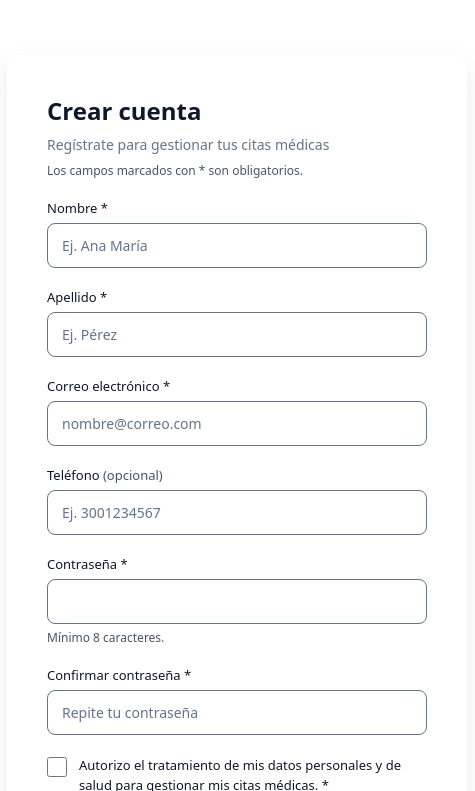
Test case: HU-01 registro › con la autorización crea la cuenta y la envía al servidor
The image size is (475, 791).
Type "Ana" into the field with id "registro-nombre".
click(237, 246); type("Ana")  # box [47,223,427,268]
Type "Pérez" into the field with id "registro-apellido".
click(237, 334); type("Pérez")  # box [47,312,427,357]
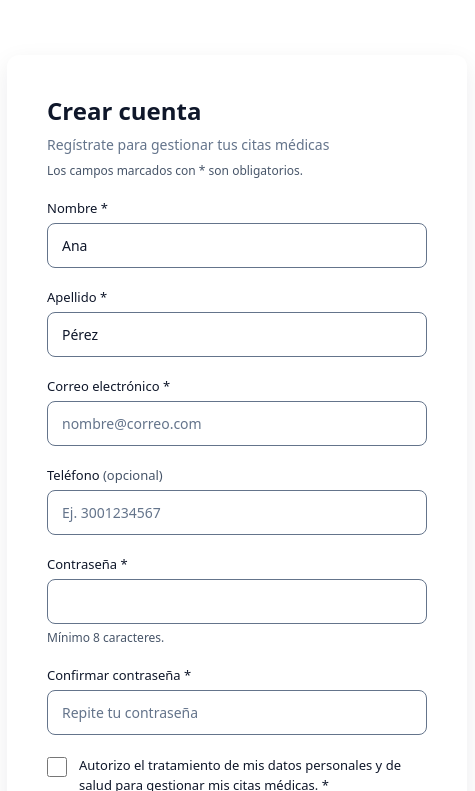
Type "ana@correo.com" into the field with id "registro-correo".
click(237, 424); type("ana@correo.com")  # box [47,401,427,446]
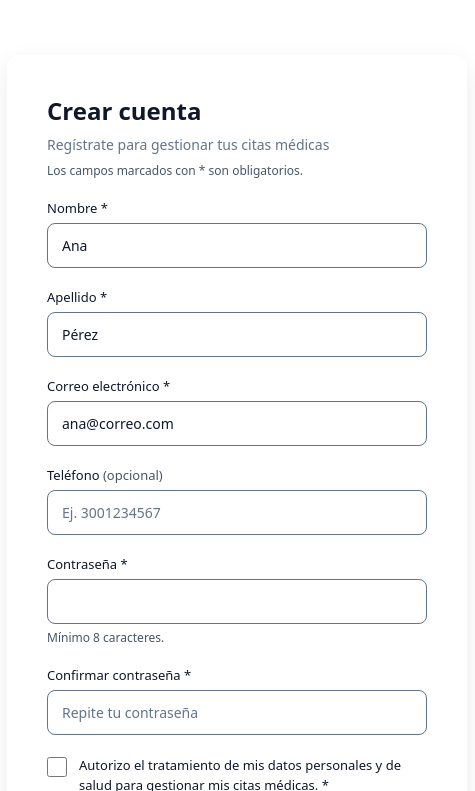
Type "claveSegura1" into the password field with id "registro-contrasena".
click(237, 602); type("claveSegura1")  # box [47,579,427,624]
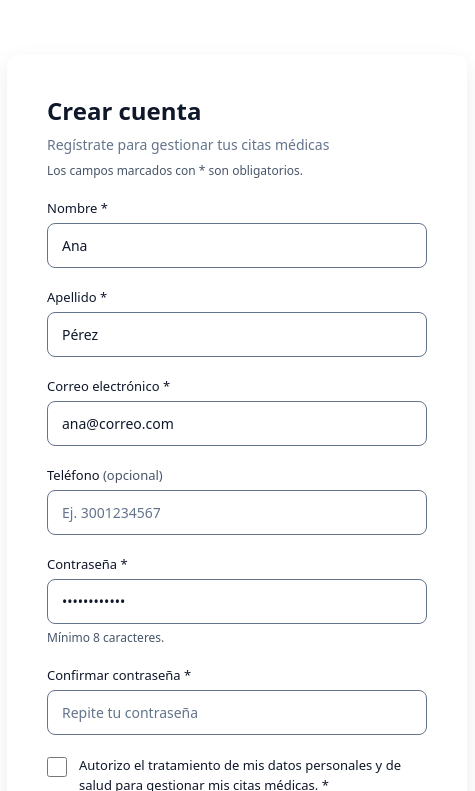
Type "claveSegura1" into the password field with id "registro-confirmarContrasena".
click(237, 712); type("claveSegura1")  # box [47,690,427,735]
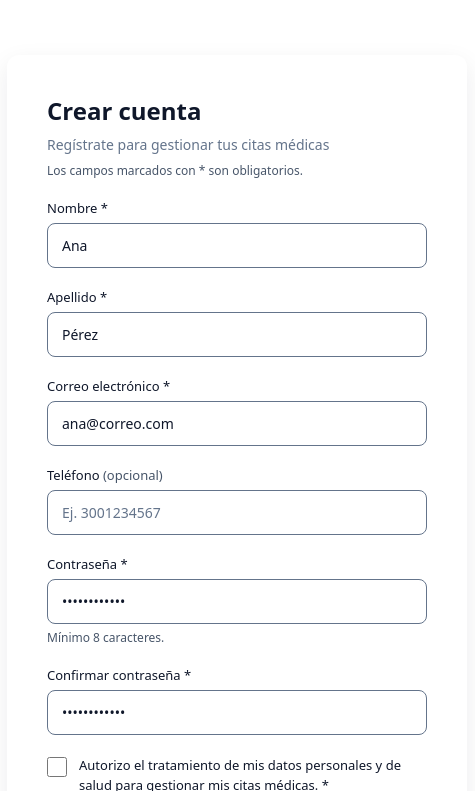
Click the checkbox.
click(57, 767)  # box [47,757,67,777]
(page scrolled)
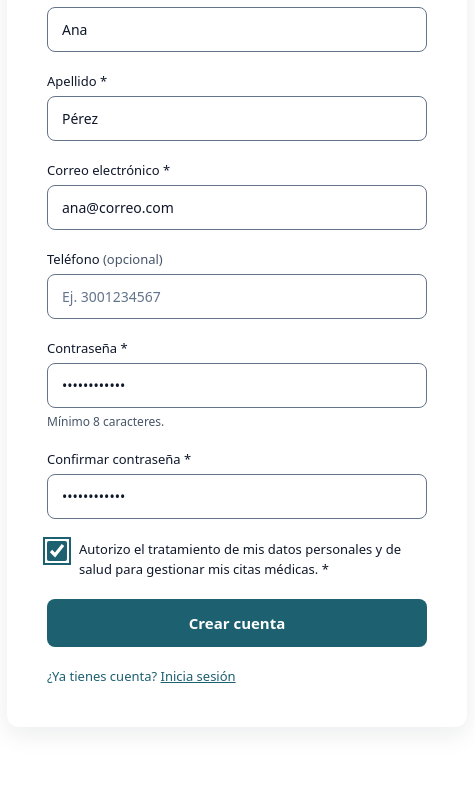
Click the button "Crear cuenta".
click(237, 623)  # box [47,599,427,647]
(page scrolled)
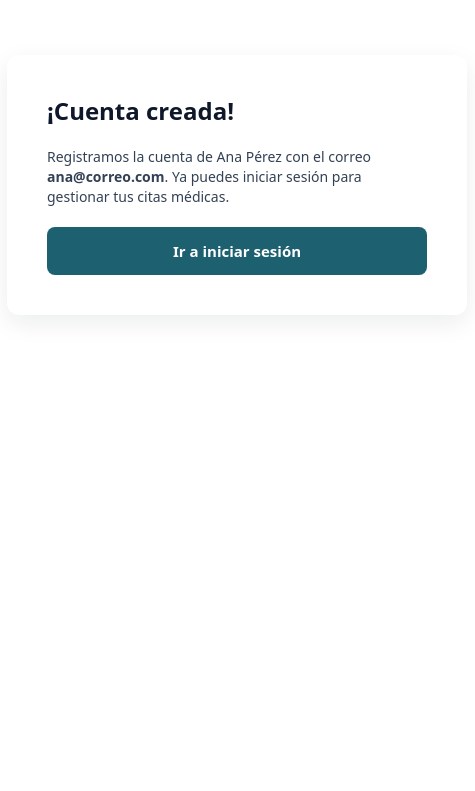
expect the heading "¡Cuenta creada!" is shown: met, box [47,95,234,127]
